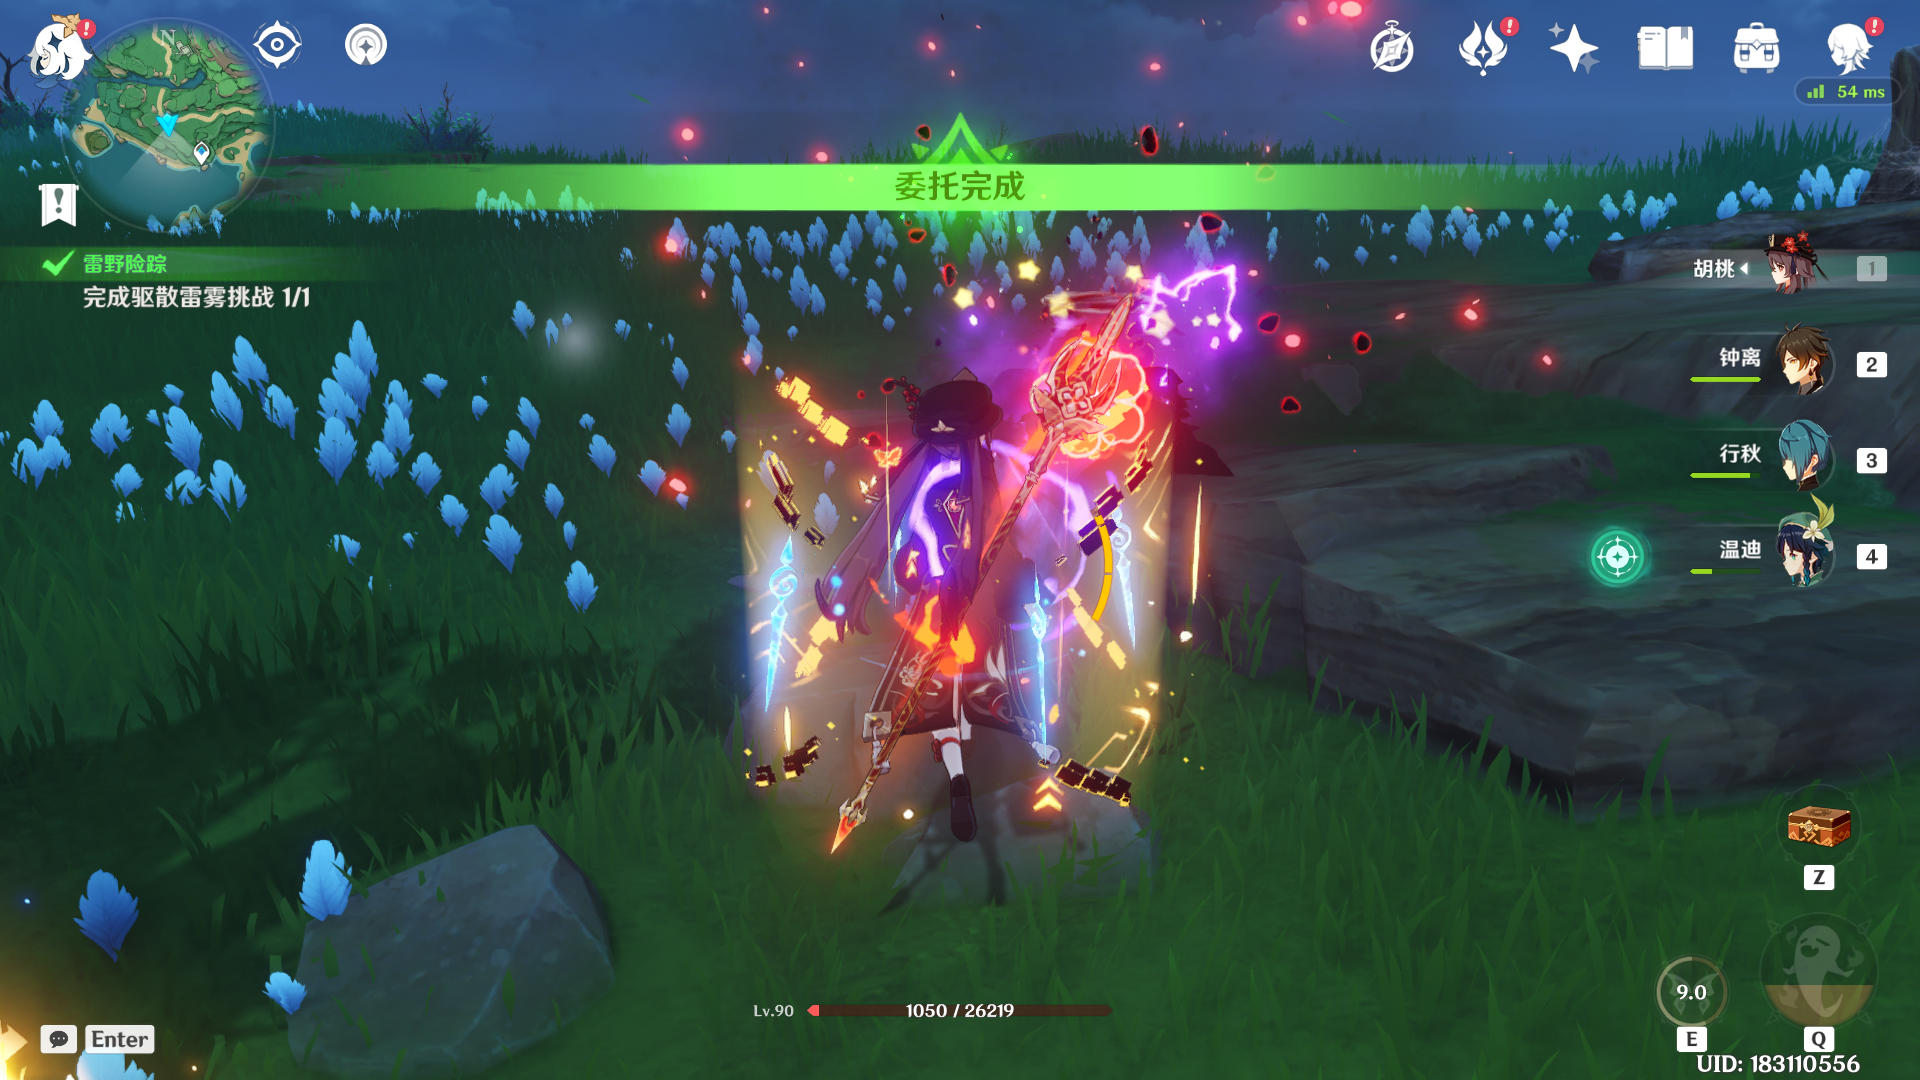character: (773, 360, 1166, 924)
